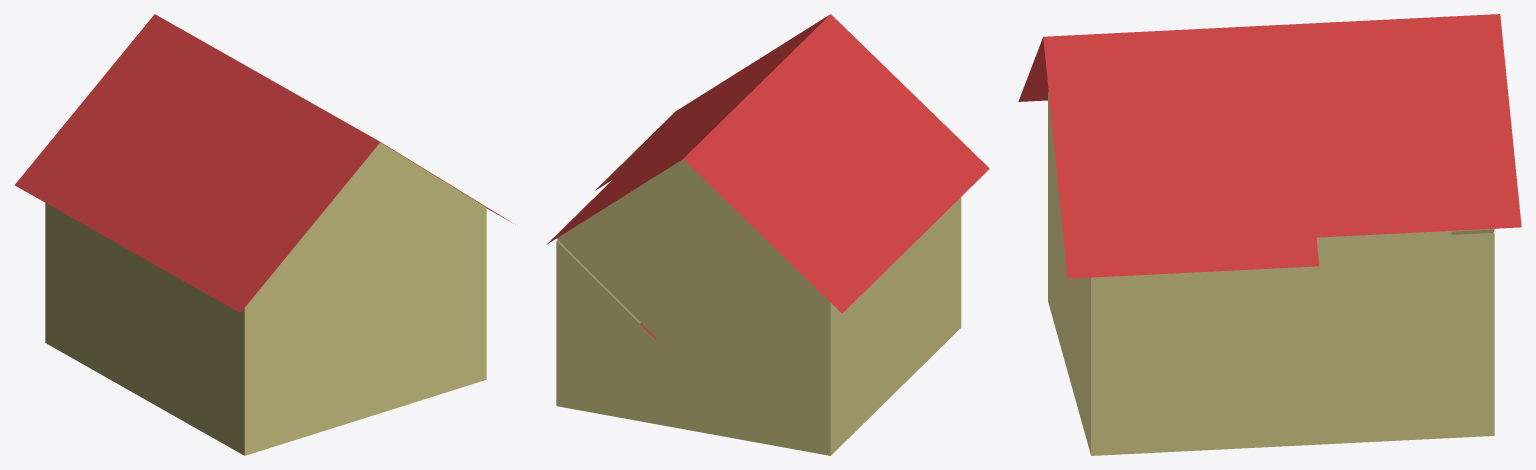
The picture shows the model from 3 angles, left to right: view 1: azimuth 30°, elevation 25°; view 2: azimuth 150°, elevation 25°; view 3: azimuth 270°, elevation 25°; orthographic projection. The views are drawn at different scales.
Size of the model in its own units: 13.16 by 14.03 by 10.6.
